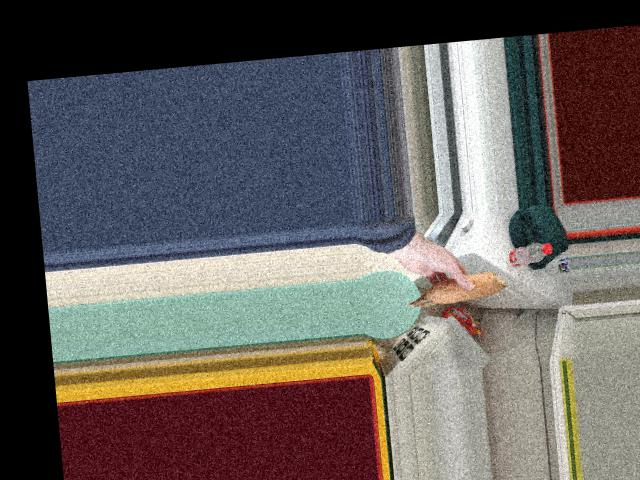sweet_potato: (405, 272, 501, 307)
